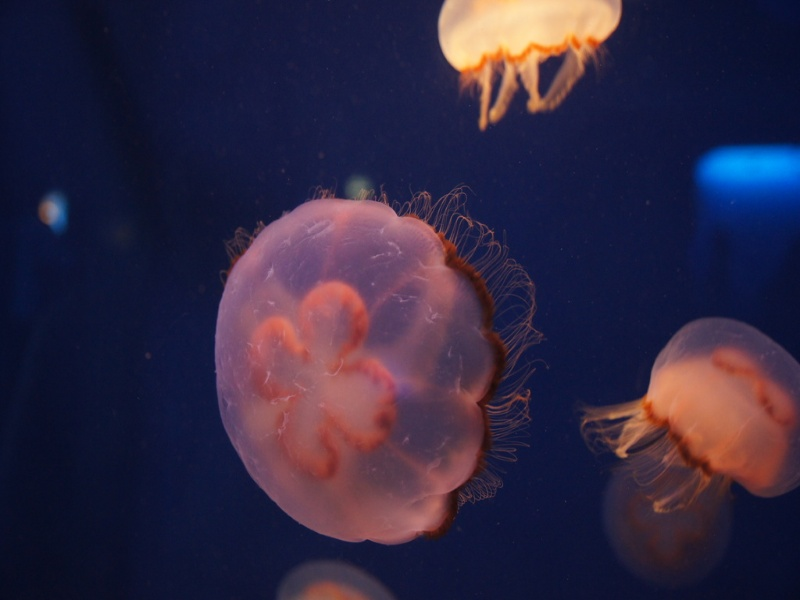Jellyfish: (216, 178, 548, 542), (577, 318, 799, 520), (435, 0, 622, 132)
